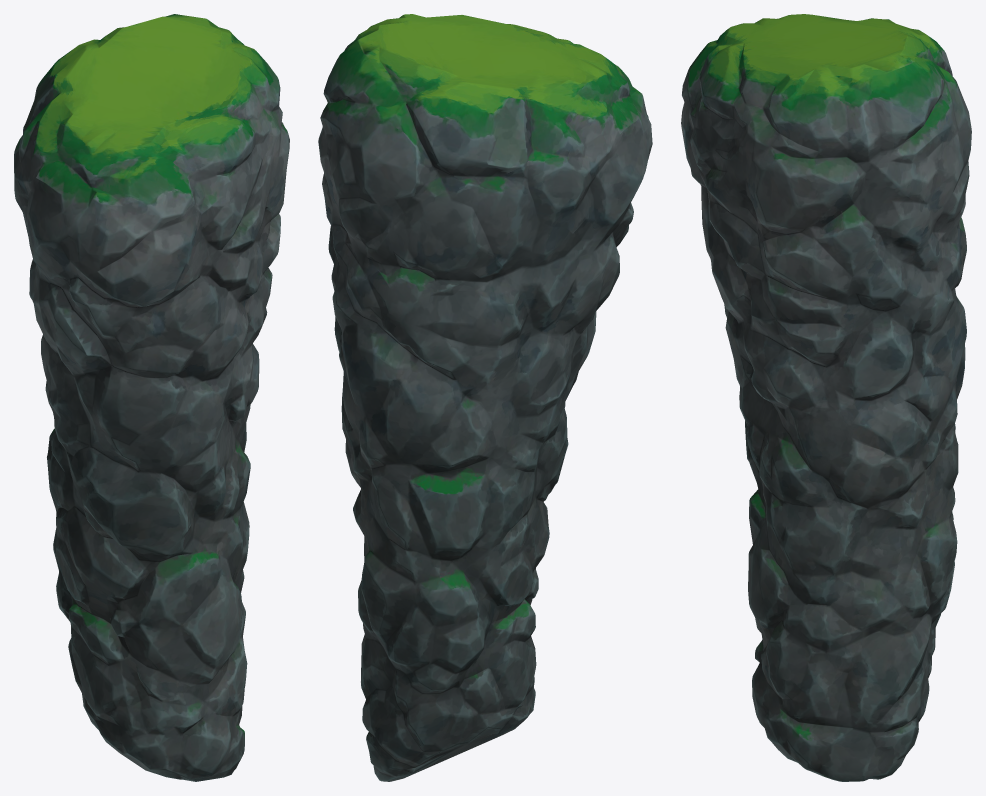
The model's file is Rock_2.fbx.
3 renders of one model, left to right at view 1: azimuth 30°, elevation 25°; view 2: azimuth 150°, elevation 25°; view 3: azimuth 270°, elevation 25°, orthographic. The views are drawn at different scales.
Visible parts, largest first — view 1: Rock_2; view 2: Rock_2; view 3: Rock_2.
Part boxes in pixels (x1,y1,x2,y2): Rock_2: [14, 14, 289, 781]; Rock_2: [318, 14, 652, 781]; Rock_2: [681, 14, 971, 781].
Size of the model in its own units: 224 by 595 by 217.
